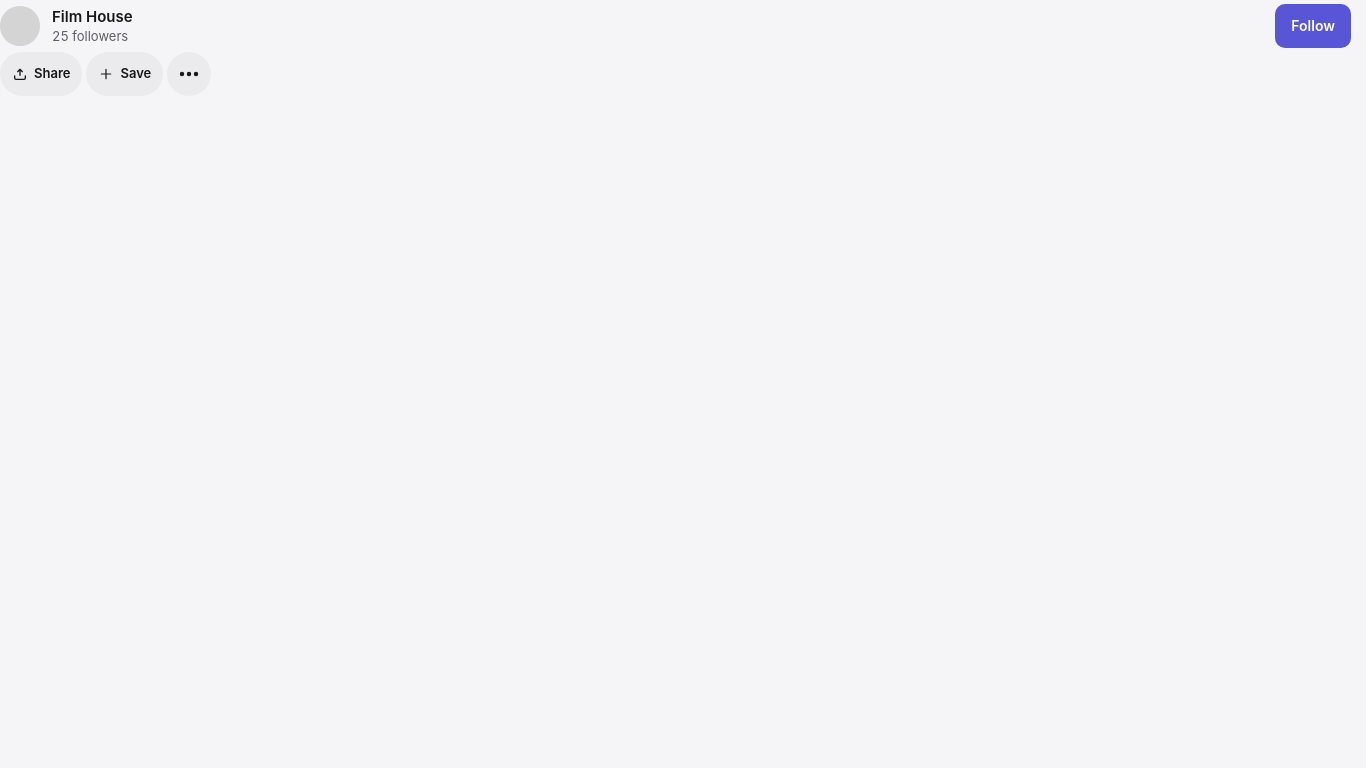
Test case: Save opens a contextual prompt without a protected mutation
Click the button "Save".
click(125, 74)  # box [86, 52, 163, 96]
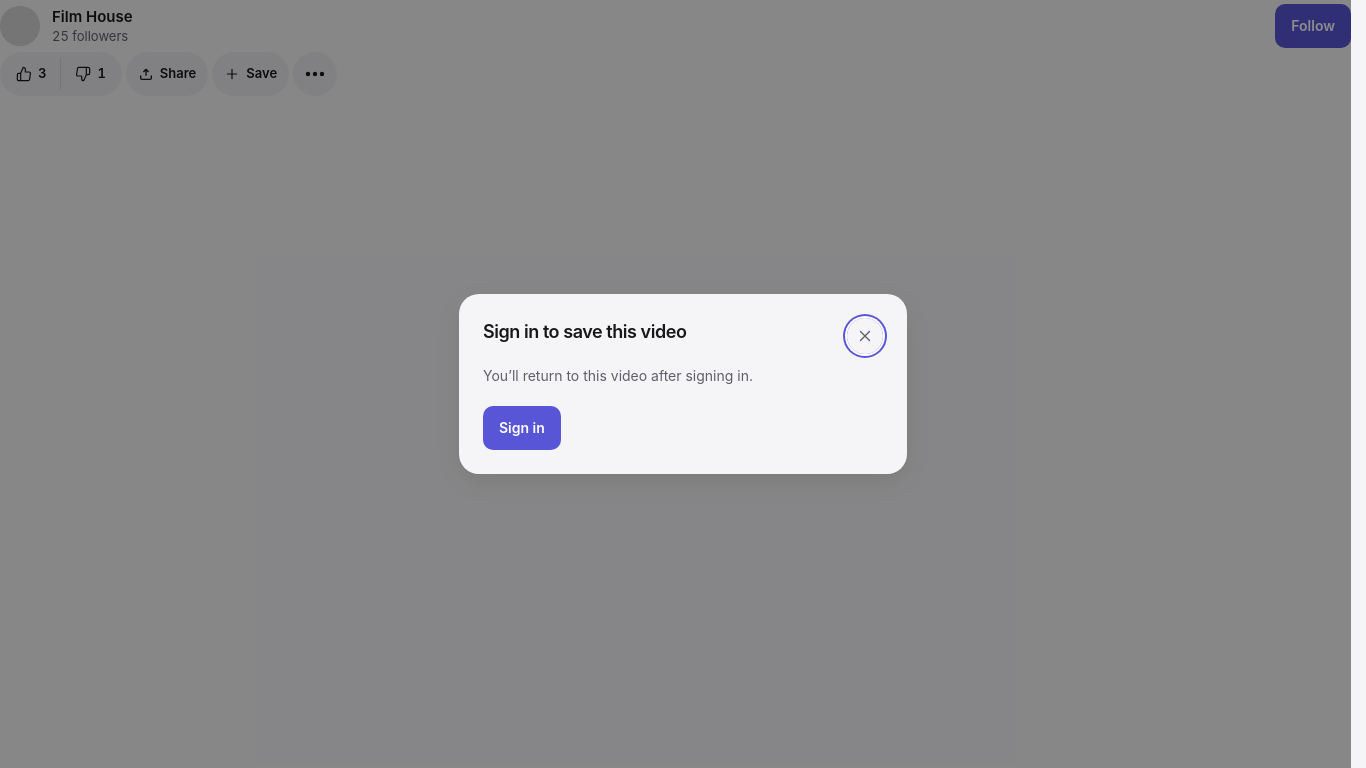
Press Escape in the dialog, box [459, 294, 907, 474]
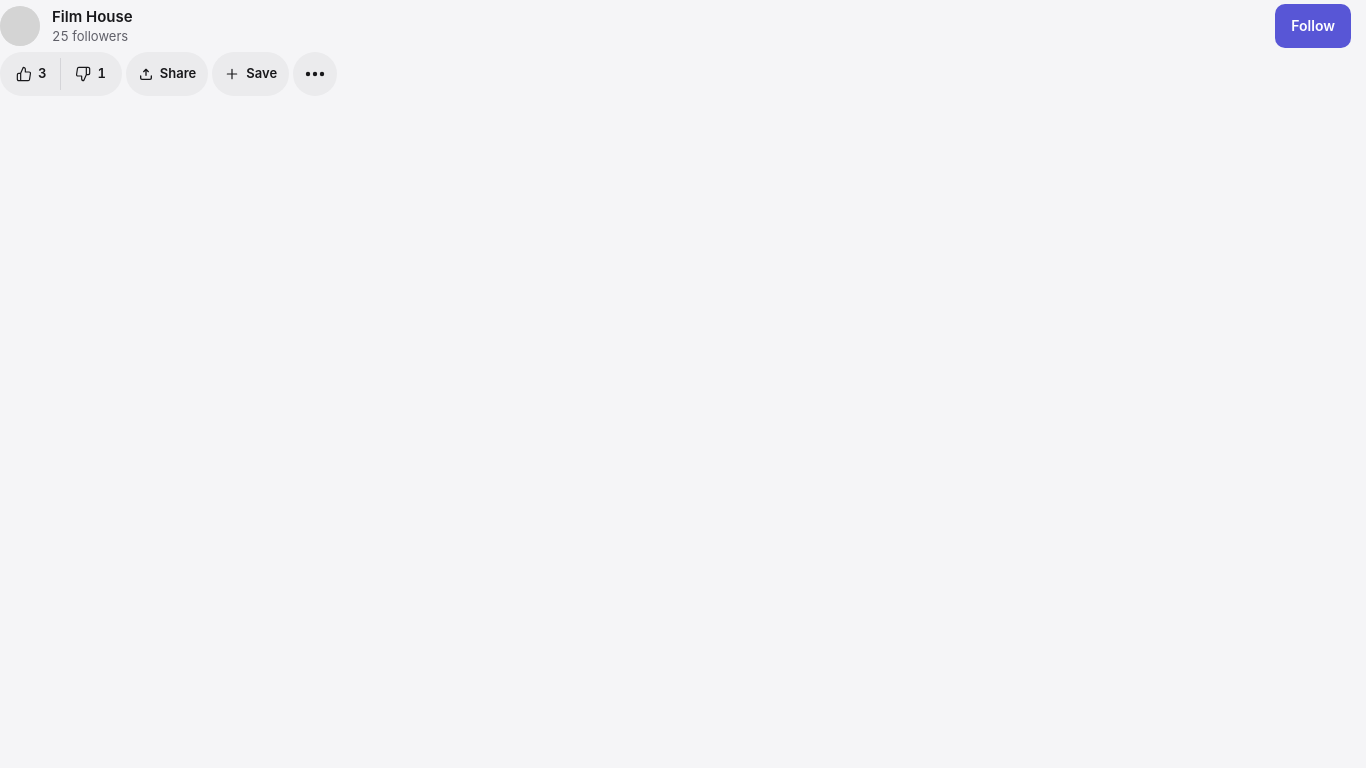
Result: the dialog is gone
